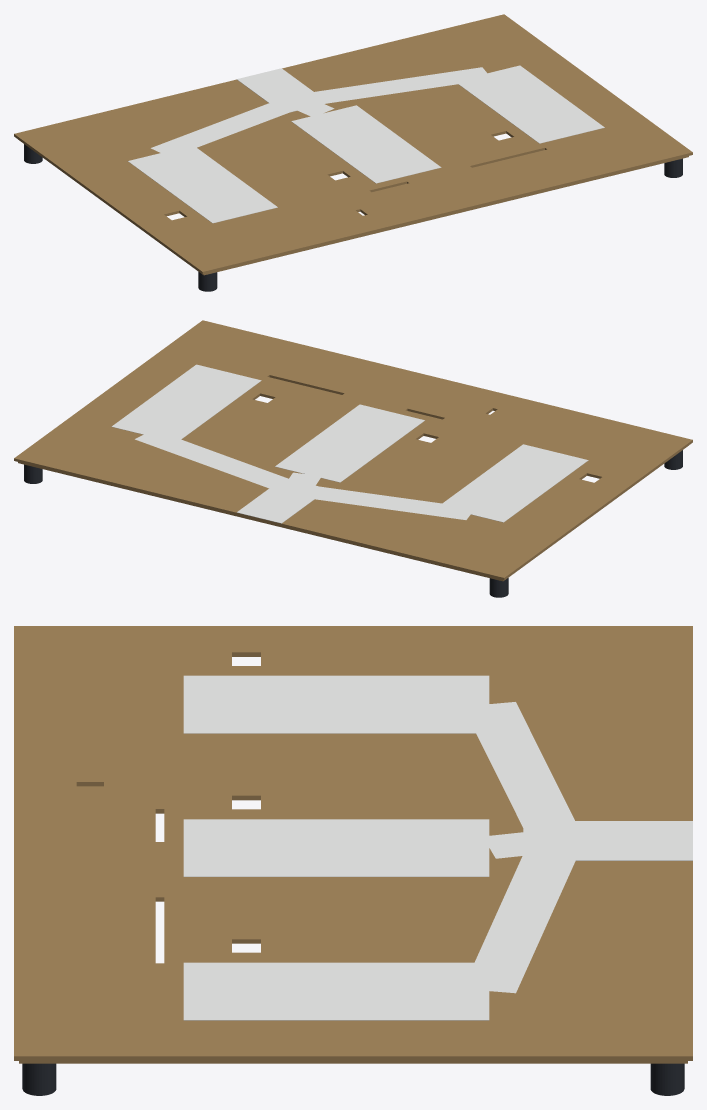
3 renders of one model, top to bottom at view 1: azimuth 30°, elevation 25°; view 2: azimuth 150°, elevation 25°; view 3: azimuth 270°, elevation 25°, orthographic. The views are drawn at different scales.
Visible parts, largest first — view 1: base_MDF_600x400x3, via_310, via_110, via_510, ramal_510, ramal_110, via_entrada, reforco_longo_15.5, ramal_310; view 2: base_MDF_600x400x3, via_310, via_110, via_510, ramal_510, ramal_110, via_entrada, reforco_longo_384.5; view 3: base_MDF_600x400x3, via_310, via_110, via_510, ramal_510, ramal_110, via_entrada, reforco_curto_584.5, pe_585_15, pe_585_385, ramal_310.
Part boxes in pixels (bbox=[...]): base_MDF_600x400x3: bbox=[14, 14, 692, 274]; via_310: bbox=[291, 105, 441, 183]; via_110: bbox=[128, 148, 277, 223]; via_510: bbox=[458, 65, 604, 143]; ramal_510: bbox=[292, 67, 491, 107]; ramal_110: bbox=[151, 96, 300, 157]; via_entrada: bbox=[236, 68, 313, 112]; reforco_longo_15.5: bbox=[192, 156, 688, 275]; ramal_310: bbox=[287, 97, 334, 117]; base_MDF_600x400x3: bbox=[14, 320, 692, 580]; via_310: bbox=[275, 404, 424, 482]; via_110: bbox=[442, 444, 588, 522]; via_510: bbox=[111, 364, 261, 439]; ramal_510: bbox=[135, 429, 301, 494]; ramal_110: bbox=[292, 484, 475, 519]; via_entrada: bbox=[237, 485, 317, 523]; reforco_longo_384.5: bbox=[18, 462, 514, 581]; base_MDF_600x400x3: bbox=[14, 626, 692, 1060]; via_310: bbox=[183, 819, 489, 876]; via_110: bbox=[183, 675, 489, 733]; via_510: bbox=[183, 962, 489, 1020]; ramal_510: bbox=[463, 840, 583, 993]; ramal_110: bbox=[463, 702, 583, 842]; via_entrada: bbox=[523, 821, 692, 860]; reforco_curto_584.5: bbox=[61, 1061, 645, 1063]; pe_585_15: bbox=[22, 1063, 56, 1095]; pe_585_385: bbox=[650, 1063, 684, 1095]; ramal_310: bbox=[483, 832, 529, 858].
Bounding box in the file's own units: 0.6 × 0.0285 × 0.4.
